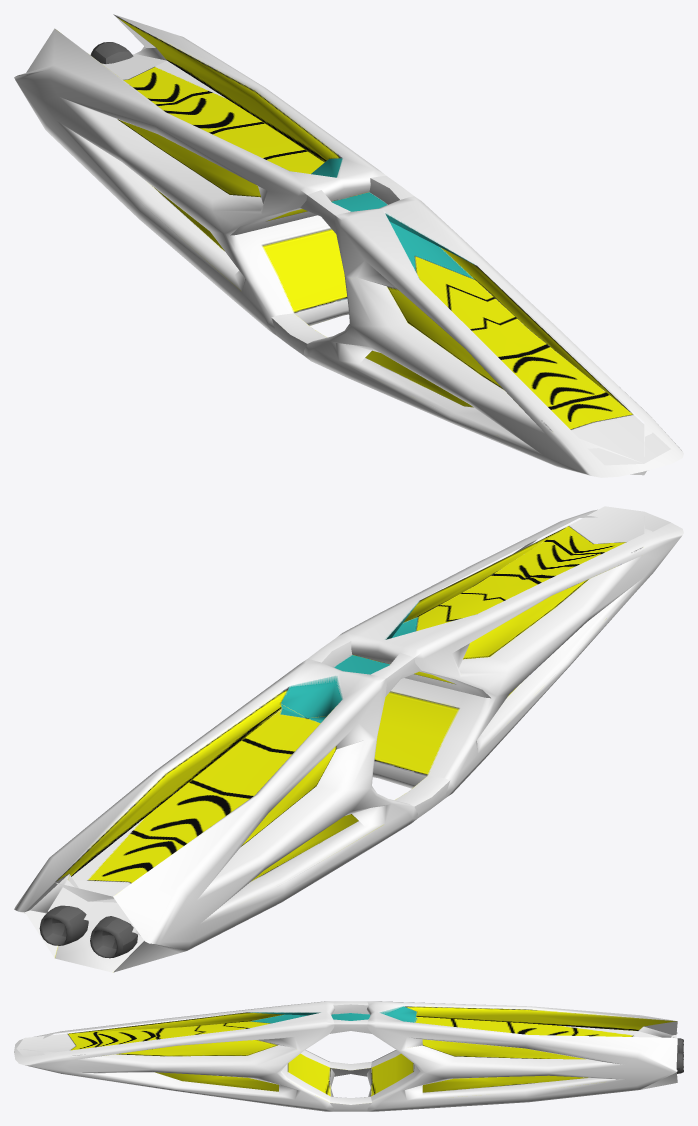
Rendered from divinity.gltf.
The picture shows the model from 3 angles, top to bottom: view 1: azimuth 30°, elevation 25°; view 2: azimuth 150°, elevation 25°; view 3: azimuth 270°, elevation 25°; orthographic projection. The views are drawn at different scales.
Parts seen in each view (by area): view 1: body_baked; view 2: body_baked, engine; view 3: body_baked, engine.
Boxes of the visible parts, x1,y1,x2,y2 form: body_baked: [14, 14, 683, 477]; body_baked: [14, 506, 683, 972]; engine: [39, 905, 137, 958]; body_baked: [14, 1001, 677, 1111]; engine: [673, 1037, 683, 1073].
Size of the model in its own units: 6.27 by 5.64 by 42.4.
Materials: 2 (1 with a texture image).
